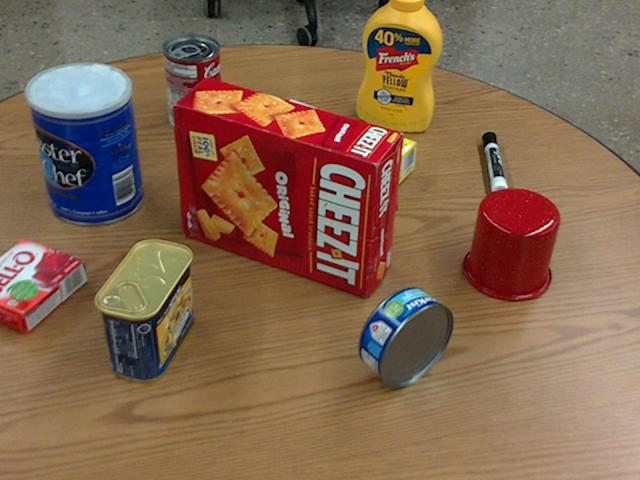cracker_box: (174, 78, 402, 297)
gelatin_box: (0, 238, 84, 330)
large_marker: (483, 131, 508, 196)
master_chef_can: (26, 63, 142, 225)
mug: (462, 187, 559, 299)
mustard_bottle: (358, 0, 442, 130)
potted_meat_can: (93, 237, 191, 380)
sugar_box: (251, 99, 416, 203)
tomato_soup_can: (163, 33, 222, 132)
tuna_fish_can: (359, 286, 453, 386)
